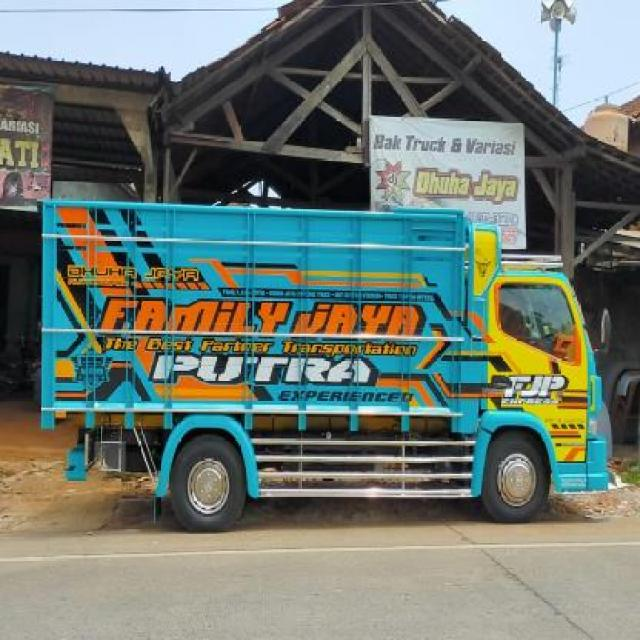truck: (37, 197, 614, 523)
